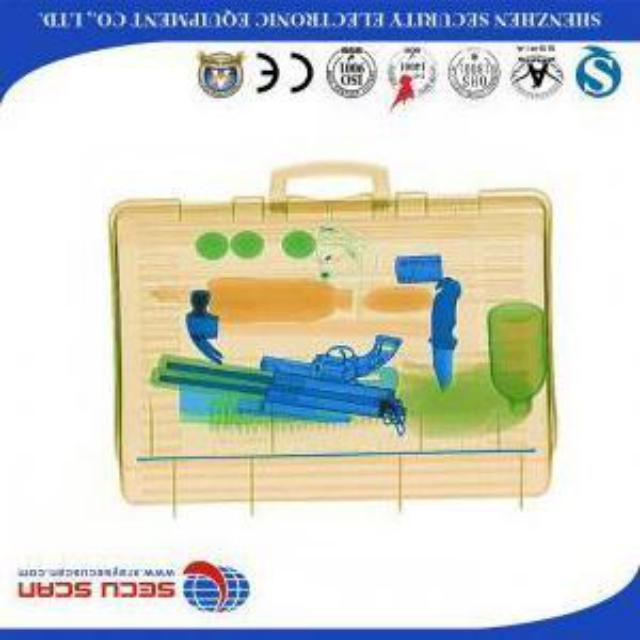Gun: (143, 329, 407, 418)
Knife: (425, 276, 461, 386)
